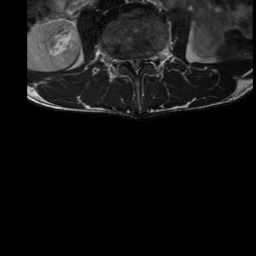CCS_stenosis: (133, 52, 139, 79)
LFS_severe_stenosis: (145, 50, 151, 69)
LLS_severe_stenosis: (139, 53, 144, 68)
RFS_severe_stenosis: (120, 52, 127, 68)
RLS_severe_stenosis: (127, 53, 133, 73)
